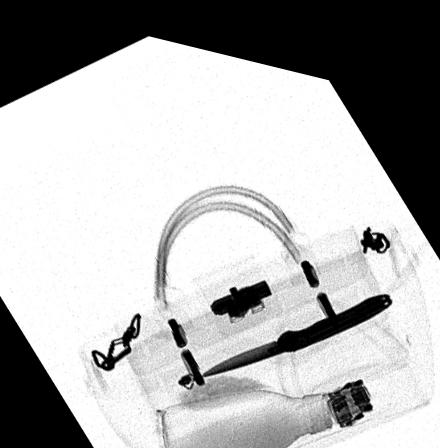Knife: (200, 272, 395, 368)
